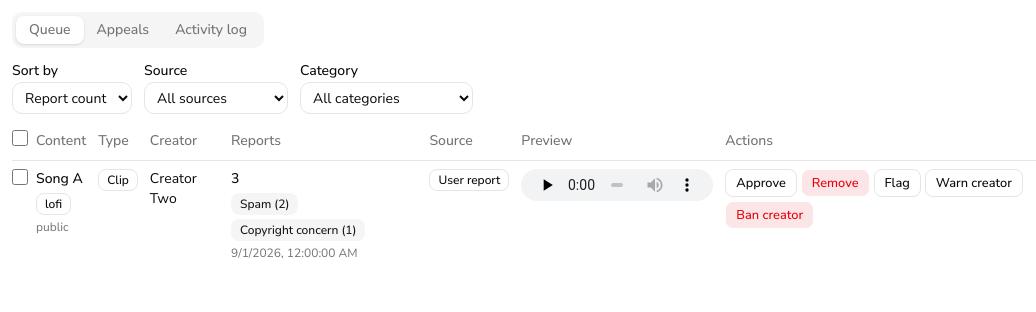
Test: ModerationDashboard › flags in one click, without a confirmation step
The image size is (1036, 312).
Step 1. Click the button "Flag" → click(897, 183), box left=874, top=169, right=921, bottom=197
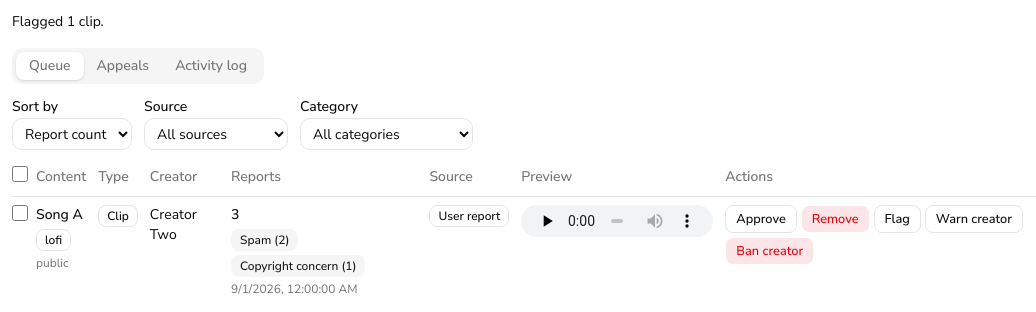
Expected: the message reads "Flagged 1 clip.", left=12, top=12, right=104, bottom=31
